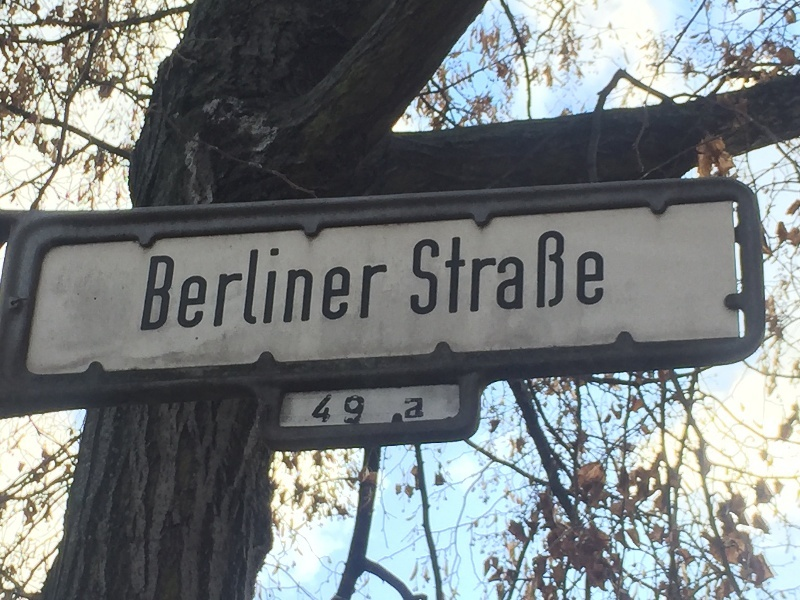text: (161, 243, 176, 332), (177, 243, 192, 332), (193, 243, 208, 332), (209, 243, 224, 332), (225, 243, 240, 332), (241, 243, 256, 332), (257, 243, 272, 332), (273, 243, 288, 332), (289, 243, 304, 332), (305, 243, 320, 332), (321, 243, 336, 332), (337, 243, 352, 332), (353, 243, 368, 332), (369, 243, 384, 332), (417, 230, 432, 316), (433, 230, 448, 316), (449, 230, 464, 316), (465, 230, 480, 316), (481, 230, 496, 316), (497, 230, 512, 316), (513, 230, 528, 316), (529, 230, 544, 316), (545, 230, 560, 316), (561, 230, 576, 316), (577, 230, 592, 316), (593, 230, 605, 316), (151, 243, 160, 332), (385, 243, 391, 332), (337, 393, 352, 424), (353, 393, 368, 424), (327, 393, 336, 424), (404, 398, 416, 419), (414, 230, 416, 316), (417, 398, 424, 419)
